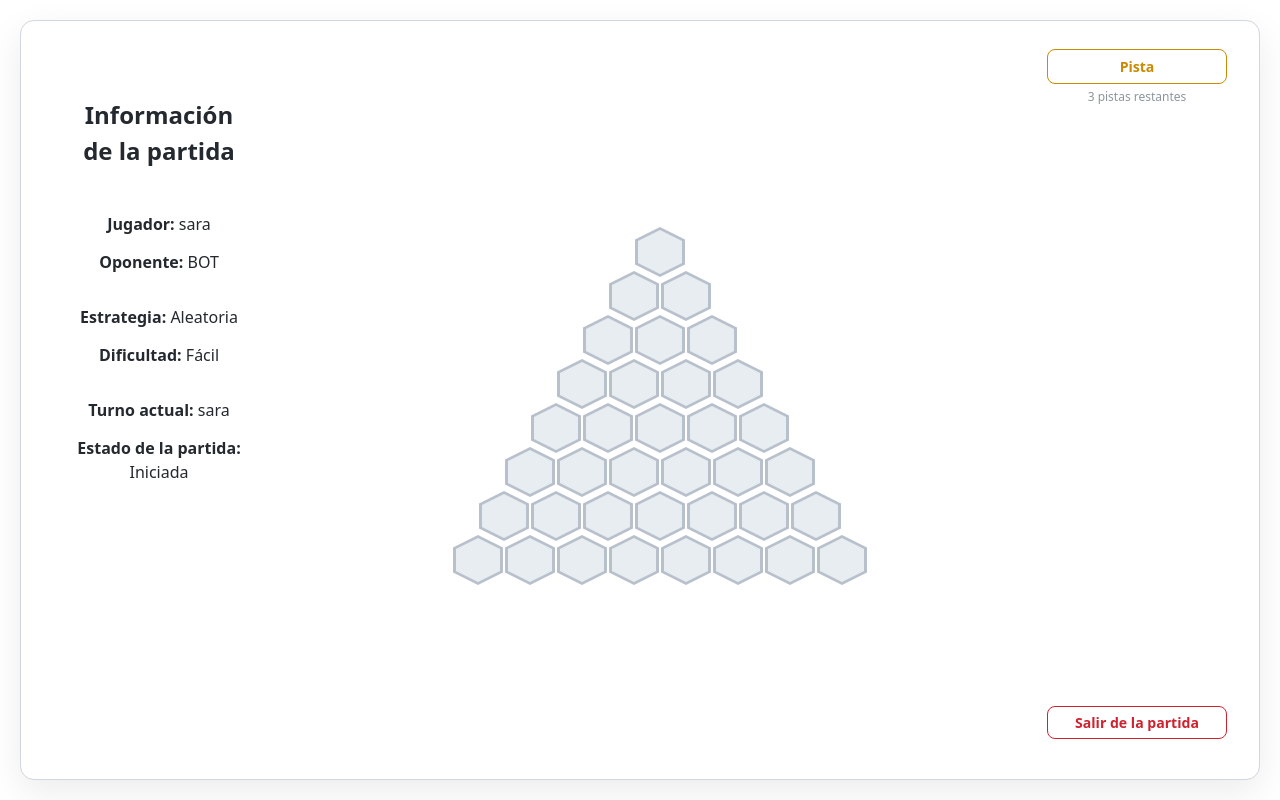
Test case: Game › muestra la pista y deshabilita el botón de pista mientras la pista está activa
This screenshot has width=1280, height=800.
Click the button "Pista" at {"x": 1137, "y": 67}, box [1047, 49, 1227, 84]
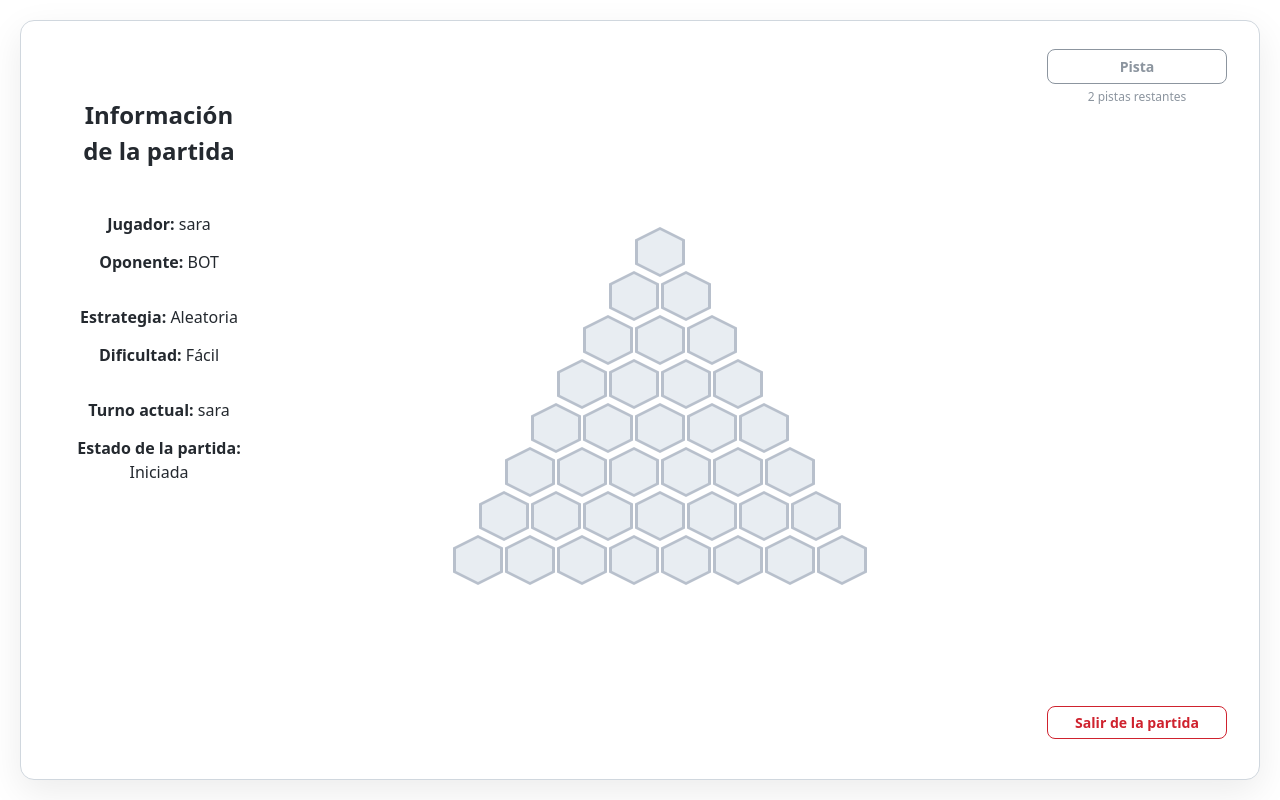
Result: the button "Pista" is disabled at [1047, 49, 1227, 84]
